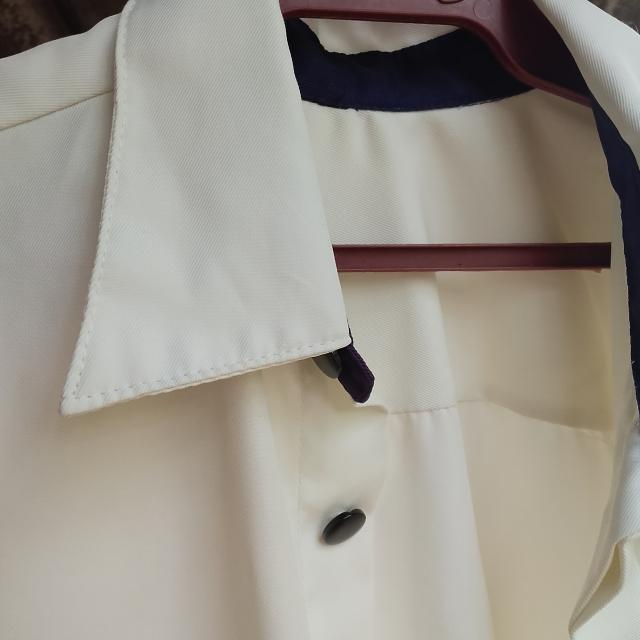education_male_uniform: (16, 10, 640, 621)
